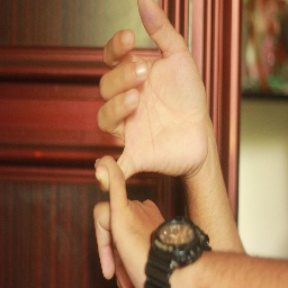S: (86, 1, 214, 287)
